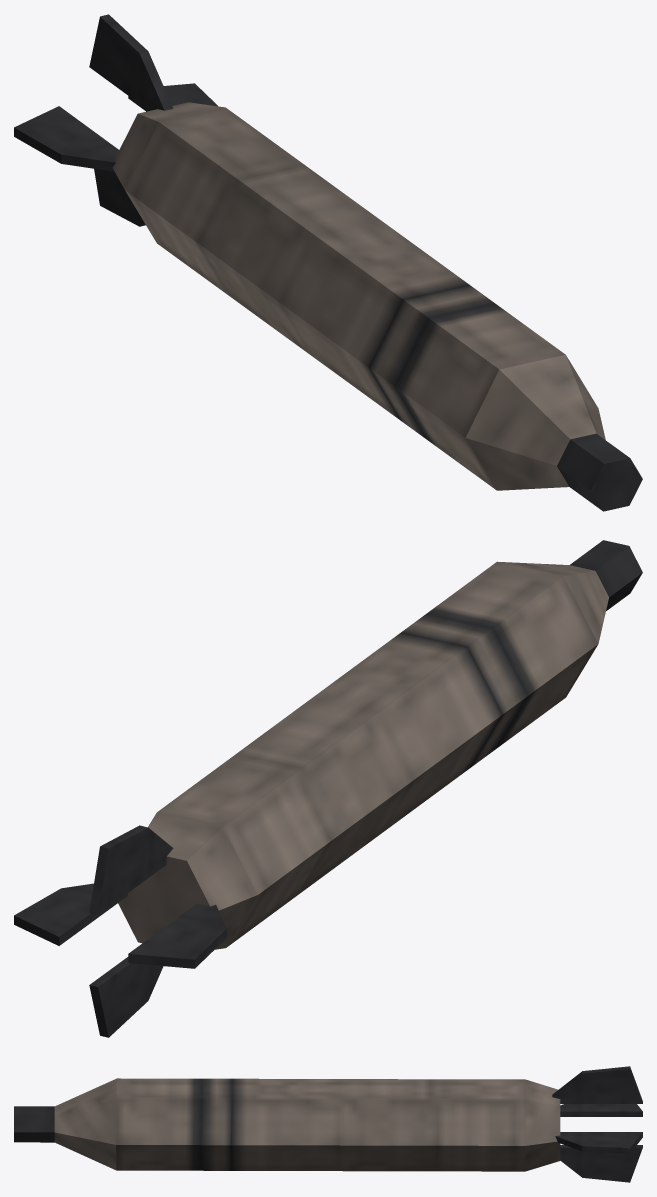
The model's file is t_bullet_cannon02.fbx.
The picture shows the model from 3 angles, top to bottom: view 1: azimuth 30°, elevation 25°; view 2: azimuth 150°, elevation 25°; view 3: azimuth 270°, elevation 25°; orthographic projection. The views are drawn at different scales.
Parts seen in each view (by area): view 1: polySurface1386, pCube58, pCube59, pCube60, pCube61; view 2: polySurface1386, pCube58, pCube59, pCube60, pCube61; view 3: polySurface1386, pCube58, pCube60, pCube61, pCube59.
Boxes of the visible parts, <box> form: polySurface1386: <box>112,102,642,511</box>; pCube58: <box>89,14,173,110</box>; pCube59: <box>14,106,118,171</box>; pCube60: <box>94,168,145,226</box>; pCube61: <box>128,83,217,111</box>; polySurface1386: <box>118,540,642,949</box>; pCube58: <box>89,825,173,914</box>; pCube59: <box>128,903,226,968</box>; pCube60: <box>89,957,163,1037</box>; pCube61: <box>14,883,127,945</box>; polySurface1386: <box>14,1078,560,1171</box>; pCube58: <box>552,1066,642,1103</box>; pCube60: <box>560,1145,642,1182</box>; pCube61: <box>555,1132,642,1153</box>; pCube59: <box>560,1104,642,1116</box>.
Size of the model in its own units: 0.0577 by 0.0577 by 0.2893.
